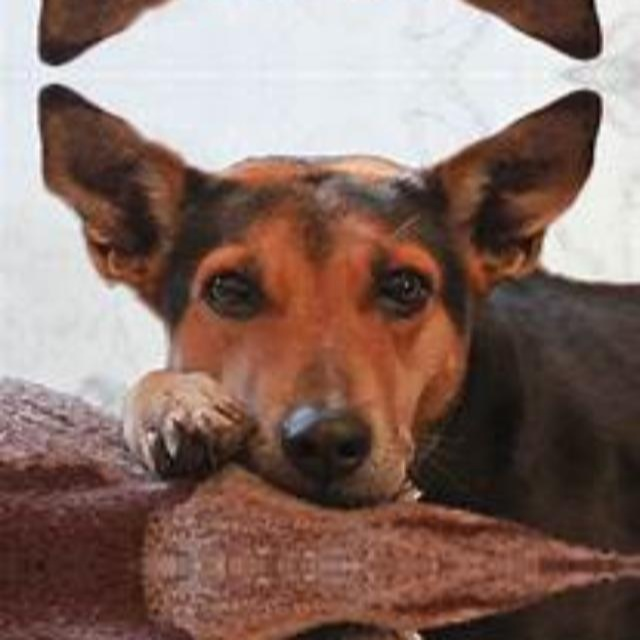dog: (28, 74, 640, 538), (28, 0, 640, 74), (28, 592, 640, 640)
